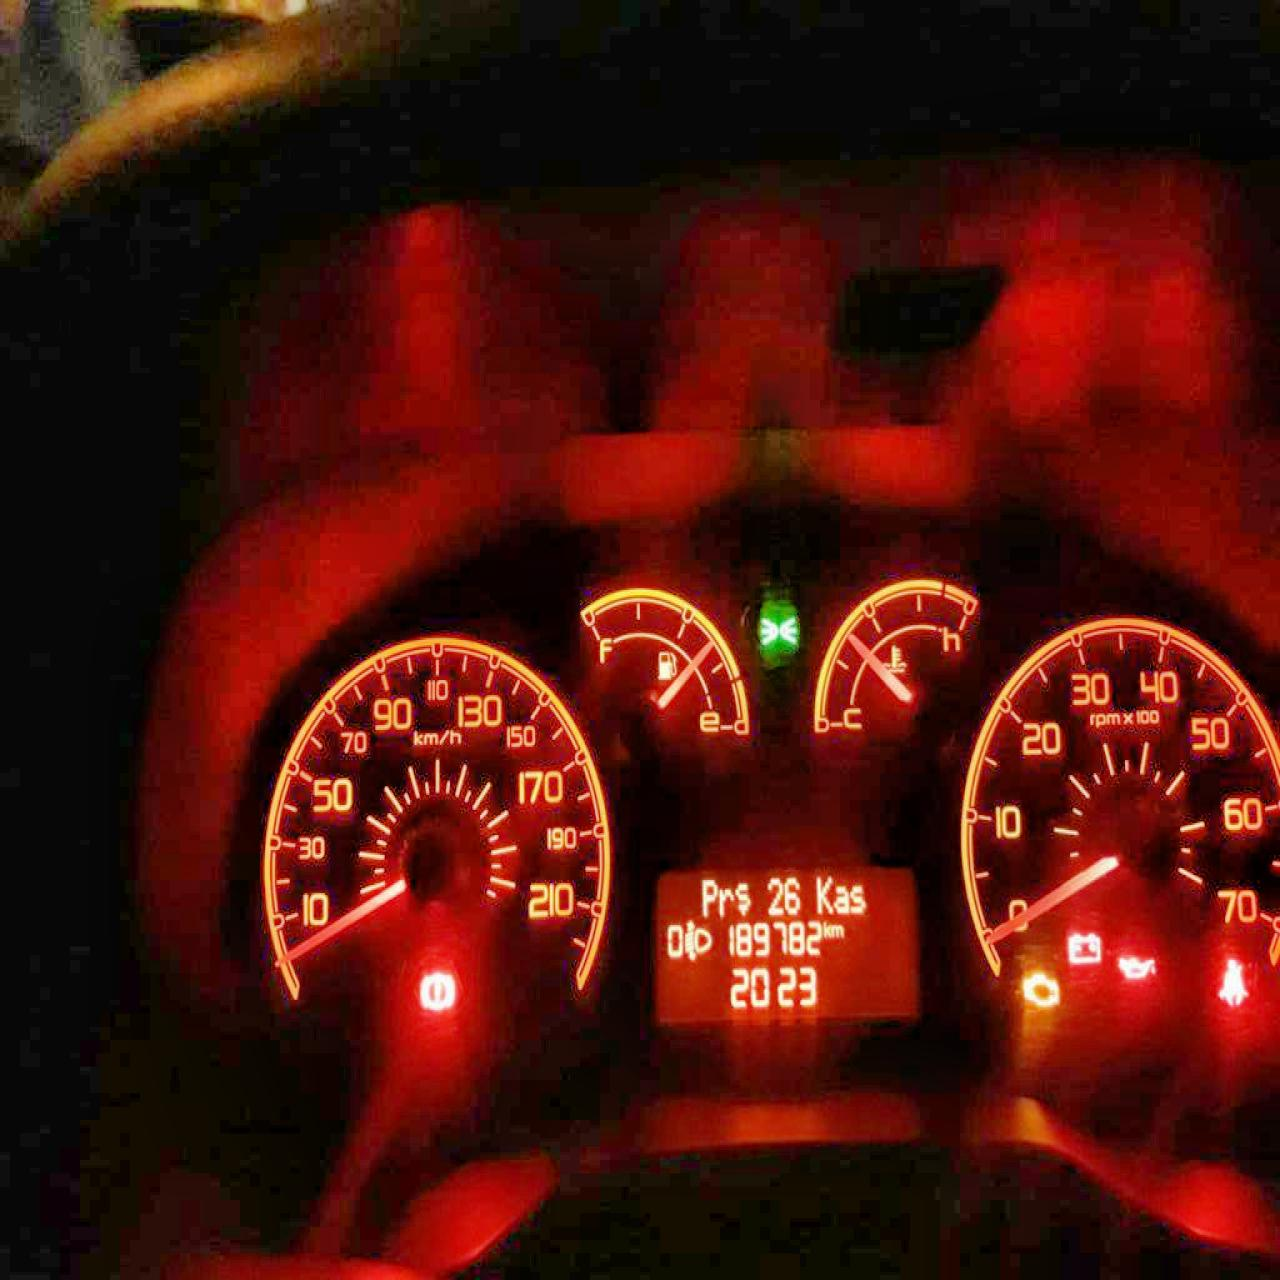0: (749, 967, 769, 1007), (666, 921, 682, 956)
1: (728, 921, 734, 955)
2: (729, 967, 749, 1007), (776, 965, 795, 1007), (767, 877, 783, 915), (805, 920, 821, 955)
3: (797, 965, 817, 1005)
6: (782, 874, 799, 913)
7: (771, 920, 787, 953)
8: (735, 920, 751, 956), (788, 920, 803, 955)
9: (751, 921, 769, 955)
X: (816, 874, 832, 913), (700, 878, 716, 917), (734, 881, 751, 915), (831, 884, 849, 913), (717, 886, 733, 917), (849, 885, 865, 913), (831, 924, 844, 937), (821, 920, 830, 938)
odometer: (653, 859, 921, 1023)
